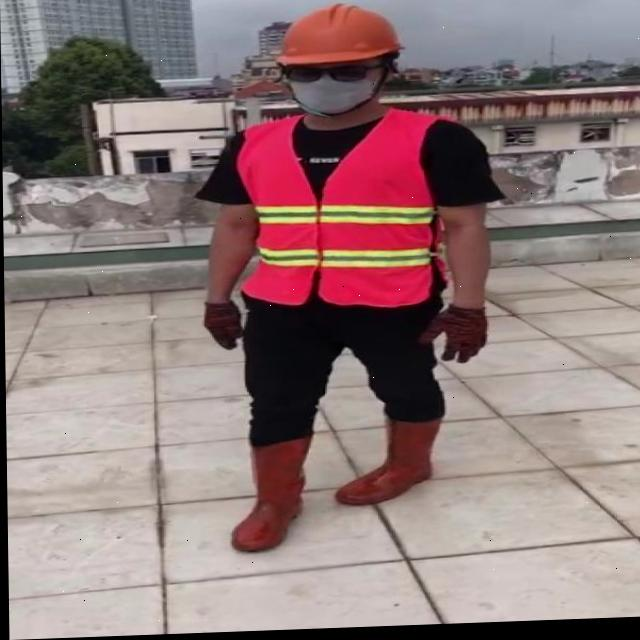Gloves: (415, 306, 487, 368), (202, 302, 241, 352)
Helmet: (274, 2, 404, 70)
Safety-Boot: (331, 404, 443, 509), (227, 433, 312, 555)
Safety-Vest: (233, 109, 455, 316)
